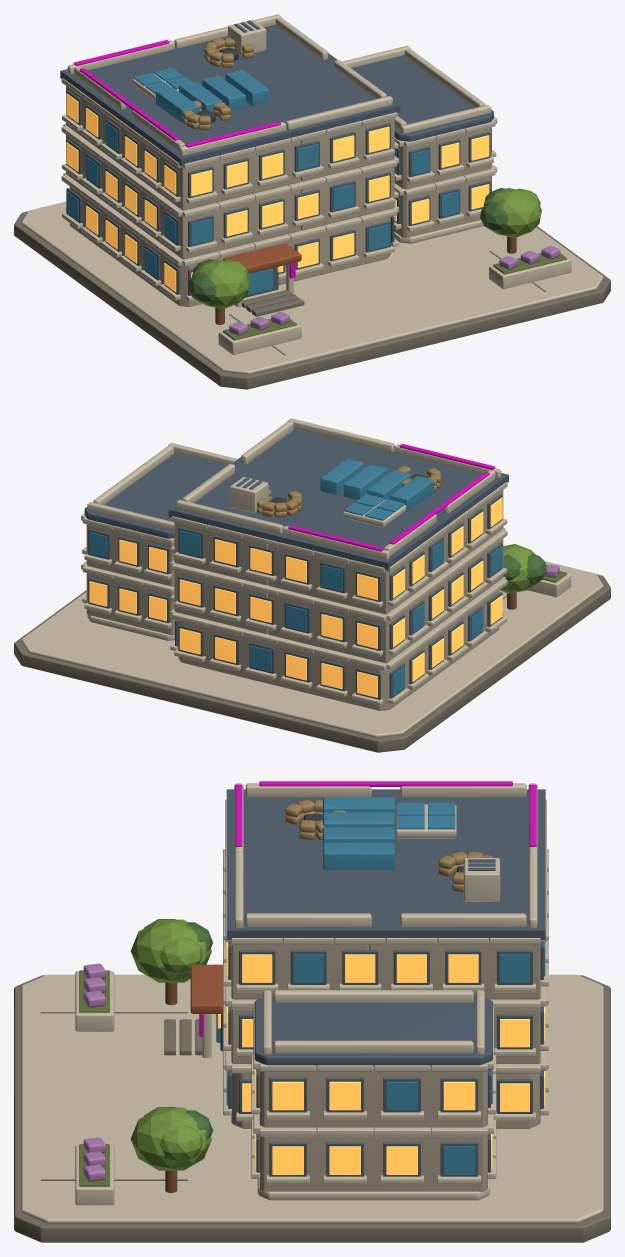
Rendered from civilian-community-garrison.glb.
3 views of the same model, one above another, from view 1: azimuth 30°, elevation 25°; view 2: azimuth 150°, elevation 25°; view 3: azimuth 270°, elevation 25° (orthographic). The views are drawn at different scales.
Parts seen in each view (by area): view 1: CivilianShell; view 2: CivilianShell; view 3: CivilianShell.
Part boxes in pixels (box(x1,y1,x2,y2)): CivilianShell: box(14, 14, 610, 389); CivilianShell: box(14, 418, 610, 752); CivilianShell: box(14, 781, 610, 1242).
Size of the model in its own units: 3.97 by 1.85 by 3.97.
